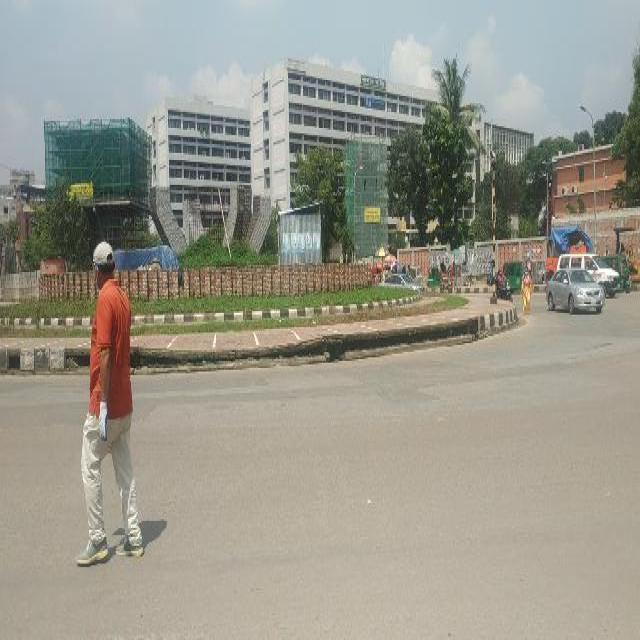car: (544, 268, 606, 316), (378, 273, 424, 289)
minivan: (590, 254, 620, 297)
motorbike: (495, 278, 513, 302)
rickshaw: (438, 260, 459, 294)
three wheelers -CNG-: (508, 260, 522, 292), (620, 252, 630, 292), (454, 262, 468, 286), (427, 266, 438, 285)
